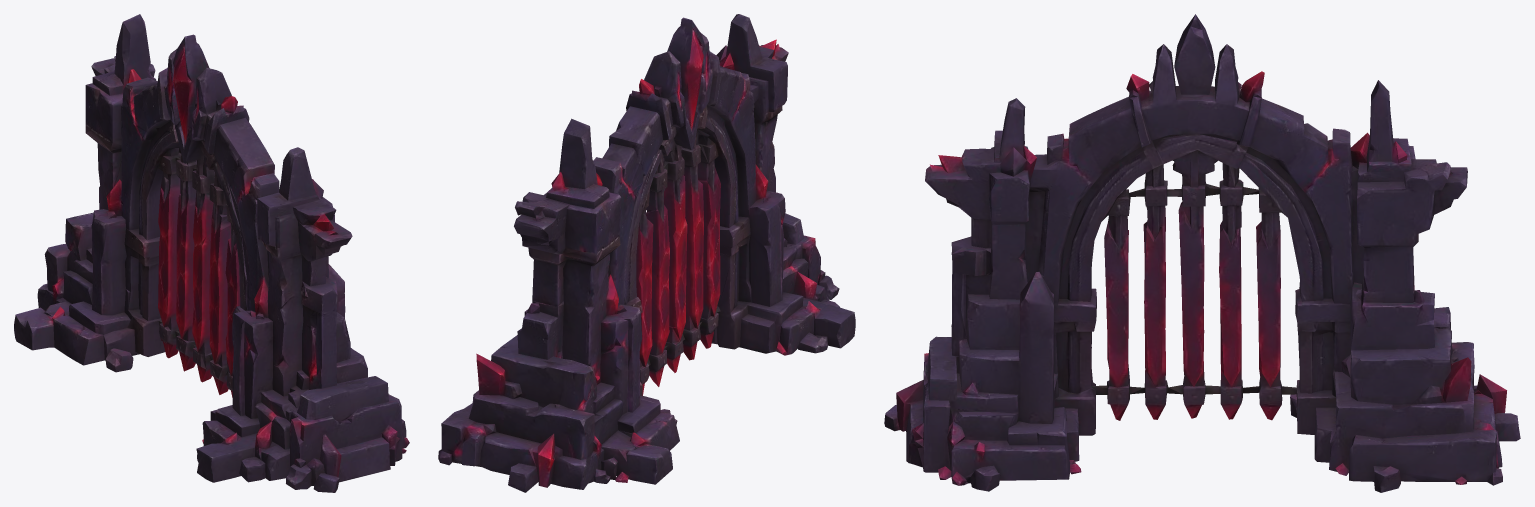
The model's file is arena_gate.glb.
The picture shows the model from 3 angles, left to right: view 1: azimuth 30°, elevation 25°; view 2: azimuth 150°, elevation 25°; view 3: azimuth 270°, elevation 25°; orthographic projection. The views are drawn at different scales.
Visible parts, largest first — view 1: body; view 2: body; view 3: body.
Boxes of the visible parts, box(x1,y1,x2,y2) form: body: box(14, 14, 409, 492); body: box(438, 14, 855, 492); body: box(884, 14, 1520, 492).
Bounding box in the file's own units: 3.09 × 5.41 × 7.6.
1 material, 1 textured.
